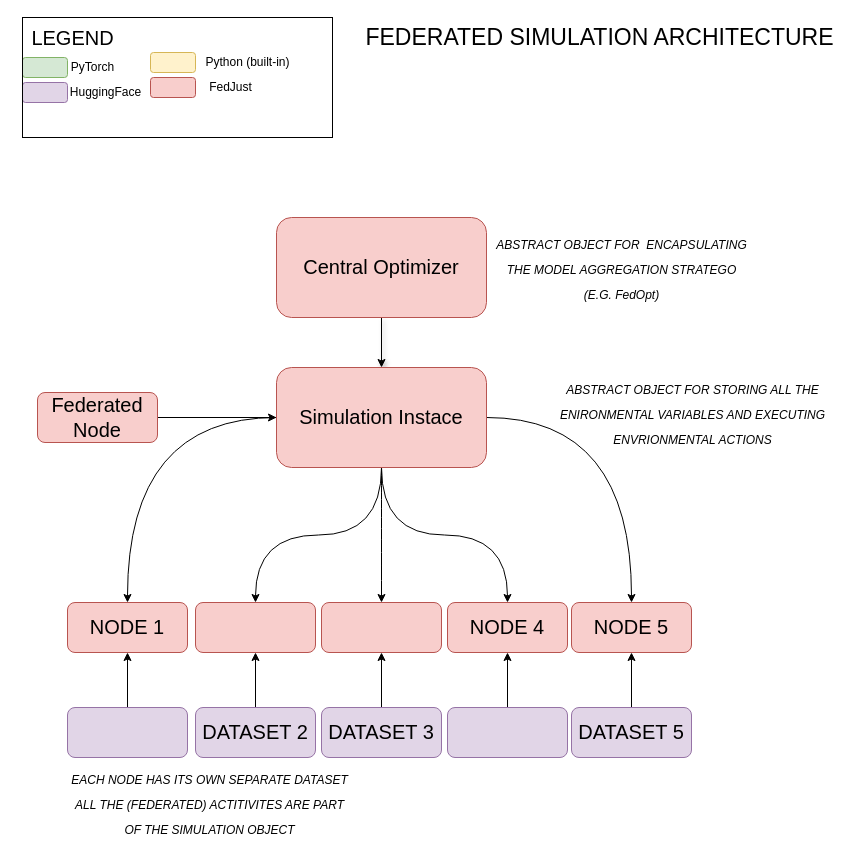
This 861x865 diagram has some shape labels left out. Each missing label, with the centre of its shape:
"DATASET 1" belongs at point 127,732.
"DATASET 4" belongs at point 507,732.
"NODE 2" belongs at point 255,627.
"NODE 3" belongs at point 381,627.
